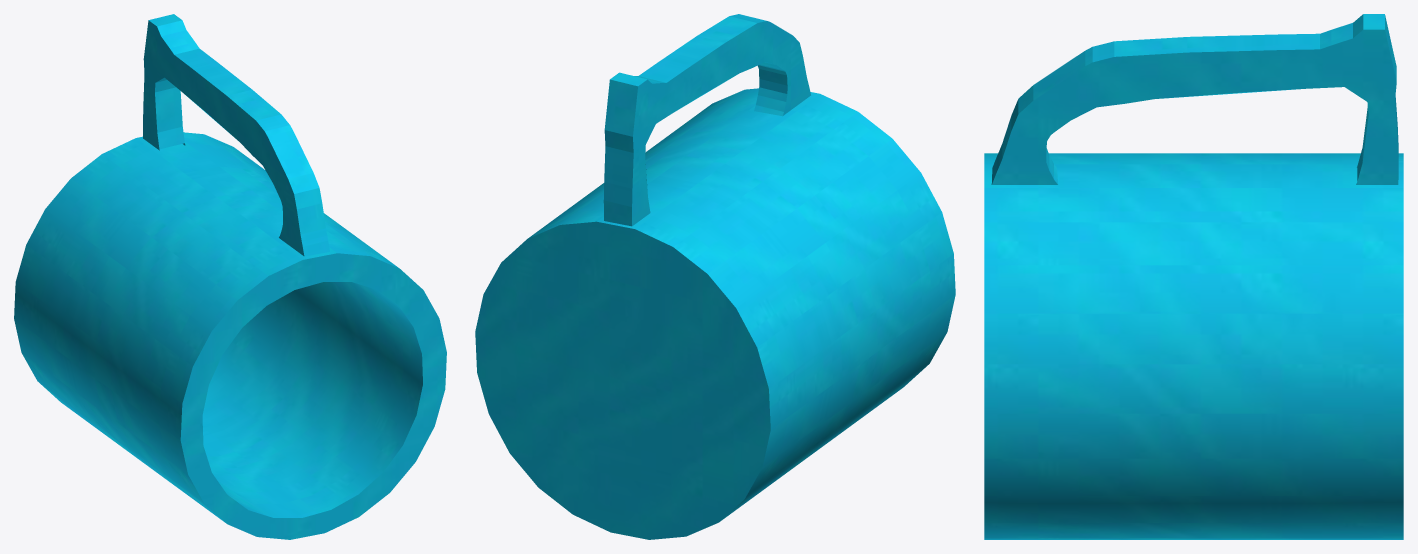
3 renders of one model, left to right at view 1: azimuth 30°, elevation 25°; view 2: azimuth 150°, elevation 25°; view 3: azimuth 270°, elevation 25°, orthographic. The views are drawn at different scales.
Size of the model in its own units: 0.4741 by 0.6816 by 0.5139.
